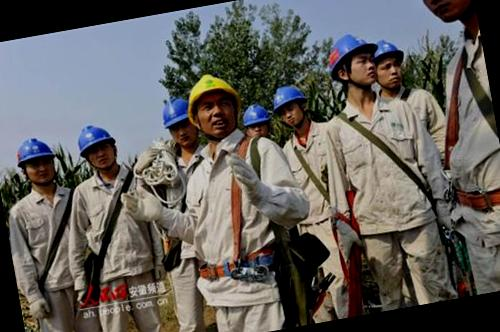person: (124, 64, 328, 332), (313, 20, 471, 314), (397, 0, 500, 297), (129, 92, 238, 332), (270, 77, 374, 323), (64, 116, 176, 332), (0, 132, 102, 332)
